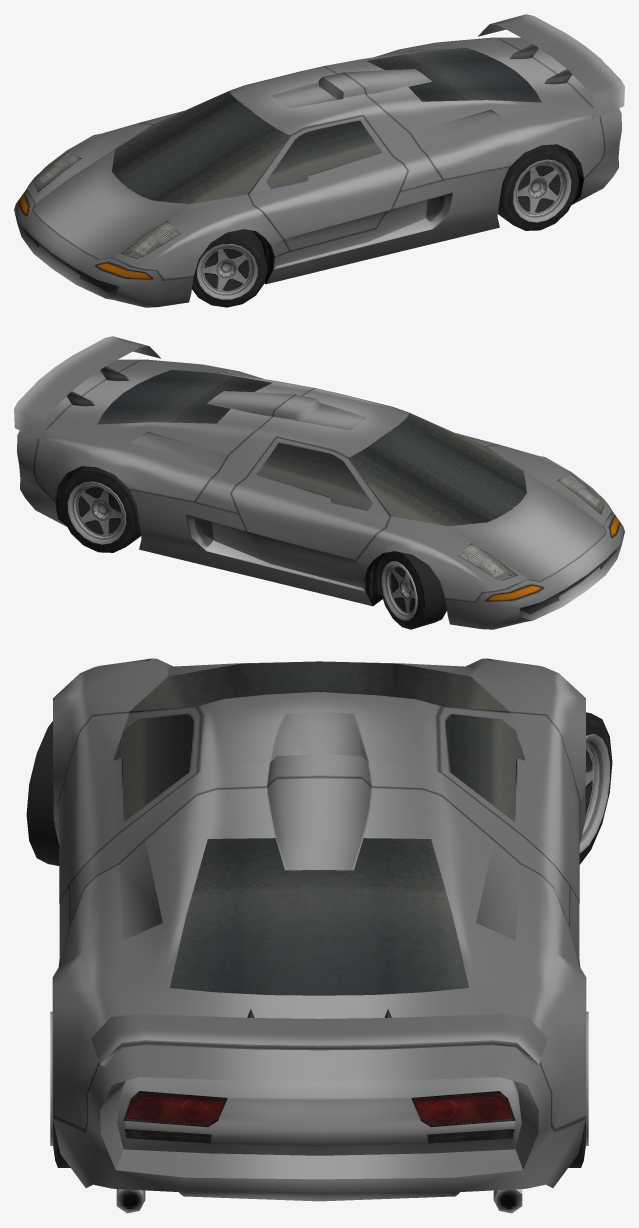
3 views of the same model, one above another, from view 1: azimuth 30°, elevation 25°; view 2: azimuth 150°, elevation 25°; view 3: azimuth 270°, elevation 25° (orthographic). The views are drawn at different scales.
Parts seen in each view (by area): view 1: Body_Body_EagleTurbo92_0, Hood_Body_EagleTurbo92_0, Glass_GT1_Glass_Clean_0, Trunk_Body_EagleTurbo92_0, Bumper_front_Body_EagleTurbo92_0, Hood_glass_GT1_Glass_Clean_0, Spoiler_Body_EagleTurbo92_0, Wheel_RL_Rim_EuroR_0, Wheel_FL_Rim_EuroR_0, Wheel_RL_wp_tire_01_dif_0, Wheel_FL_wp_tire_01_dif_0, Glass_Headlights_gt1_headlights_3_0 (+1 smaller); view 2: Body_Body_EagleTurbo92_0, Hood_Body_EagleTurbo92_0, Glass_GT1_Glass_Clean_0, Trunk_Body_EagleTurbo92_0, Bumper_front_Body_EagleTurbo92_0, Hood_glass_GT1_Glass_Clean_0, Spoiler_Body_EagleTurbo92_0, Wheel_RR_Rim_EuroR_0, Wheel_RR_wp_tire_01_dif_0, Wheel_FR_wp_tire_01_dif_0, Glass_Headlights_gt1_headlights_3_0, Wheel_FR_Rim_EuroR_0 (+1 smaller); view 3: Body_Body_EagleTurbo92_0, Hood_Body_EagleTurbo92_0, Hood_glass_GT1_Glass_Clean_0, Glass_GT1_Glass_Clean_0, Spoiler_Body_EagleTurbo92_0, Glass_Stoplight_gt1_headlights_3_0, Wheel_FL_wp_tire_01_dif_0, Wheel_FR_Rim_EuroR_0, Glass_Reverse_gt1_headlights_3_0, Bottom_gt1_Bottom_0, Trunk_Body_EagleTurbo92_0, Wheel_FR_wp_tire_01_dif_0.
Boxes of the visible parts, <box> form: Body_Body_EagleTurbo92_0: <box>27,37,621,284</box>; Hood_Body_EagleTurbo92_0: <box>324,37,603,179</box>; Glass_GT1_Glass_Clean_0: <box>112,91,382,203</box>; Trunk_Body_EagleTurbo92_0: <box>33,149,190,258</box>; Bumper_front_Body_EagleTurbo92_0: <box>14,185,193,307</box>; Hood_glass_GT1_Glass_Clean_0: <box>366,47,541,102</box>; Spoiler_Body_EagleTurbo92_0: <box>478,14,624,120</box>; Wheel_RL_Rim_EuroR_0: <box>512,159,571,222</box>; Wheel_FL_Rim_EuroR_0: <box>197,244,257,299</box>; Wheel_RL_wp_tire_01_dif_0: <box>498,144,578,230</box>; Wheel_FL_wp_tire_01_dif_0: <box>192,229,267,307</box>; Glass_Headlights_gt1_headlights_3_0: <box>35,151,181,258</box>; Body_Body_EagleTurbo92_0: <box>17,359,611,606</box>; Hood_Body_EagleTurbo92_0: <box>35,359,314,501</box>; Glass_GT1_Glass_Clean_0: <box>256,413,526,525</box>; Trunk_Body_EagleTurbo92_0: <box>448,471,605,580</box>; Bumper_front_Body_EagleTurbo92_0: <box>445,507,624,629</box>; Hood_glass_GT1_Glass_Clean_0: <box>97,369,272,424</box>; Spoiler_Body_EagleTurbo92_0: <box>14,336,160,442</box>; Wheel_RR_Rim_EuroR_0: <box>67,481,126,544</box>; Wheel_RR_wp_tire_01_dif_0: <box>60,466,140,552</box>; Wheel_FR_wp_tire_01_dif_0: <box>378,551,446,629</box>; Glass_Headlights_gt1_headlights_3_0: <box>458,473,603,580</box>; Wheel_FR_Rim_EuroR_0: <box>381,561,417,620</box>; Body_Body_EagleTurbo92_0: <box>53,658,585,1201</box>; Hood_Body_EagleTurbo92_0: <box>52,777,586,1130</box>; Hood_glass_GT1_Glass_Clean_0: <box>170,838,468,995</box>; Glass_GT1_Glass_Clean_0: <box>113,661,525,821</box>; Spoiler_Body_EagleTurbo92_0: <box>91,1008,547,1065</box>; Glass_Stoplight_gt1_headlights_3_0: <box>123,1091,515,1126</box>; Wheel_FL_wp_tire_01_dif_0: <box>26,721,59,865</box>; Wheel_FR_Rim_EuroR_0: <box>579,734,609,853</box>; Glass_Reverse_gt1_headlights_3_0: <box>124,1129,514,1143</box>; Bottom_gt1_Bottom_0: <box>116,1189,522,1213</box>; Trunk_Body_EagleTurbo92_0: <box>168,661,470,676</box>; Wheel_FR_wp_tire_01_dif_0: <box>579,712,612,864</box>.
Size of the model in its own units: 4.8 by 1.16 by 2.28.
7 materials, 7 textured.
